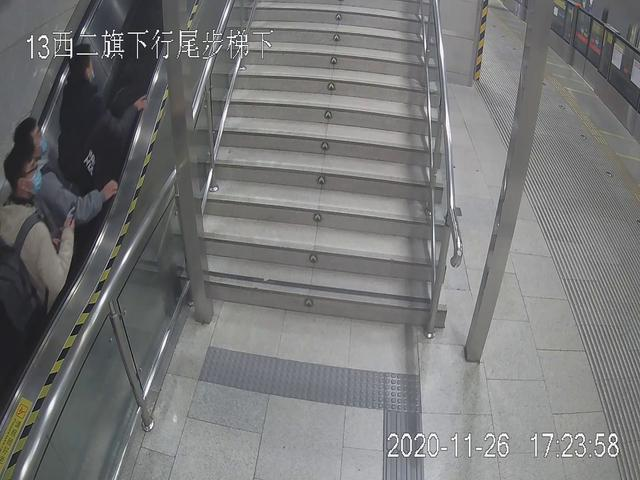person: (4, 135, 77, 318), (42, 44, 120, 191)
